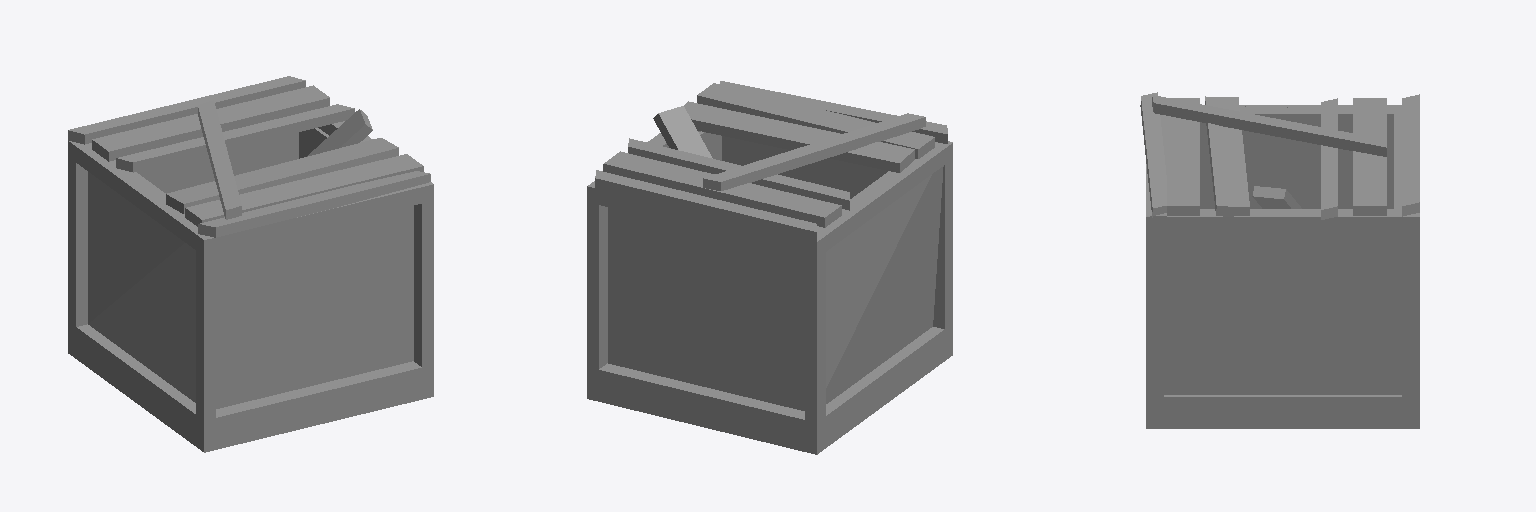
File: crate.obj
The picture shows the model from 3 angles: view 1: azimuth 30°, elevation 25°; view 2: azimuth 150°, elevation 25°; view 3: azimuth 270°, elevation 25°; orthographic projection.
Parts seen in each view (by area): view 1: Crate_Cube.008; view 2: Crate_Cube.008; view 3: Crate_Cube.008.
Part boxes in pixels (bbox=[...]): Crate_Cube.008: bbox=[68, 76, 433, 452]; Crate_Cube.008: bbox=[587, 81, 952, 454]; Crate_Cube.008: bbox=[1140, 92, 1419, 428].
Size of the model in its own units: 2.15 by 2.05 by 2.18.